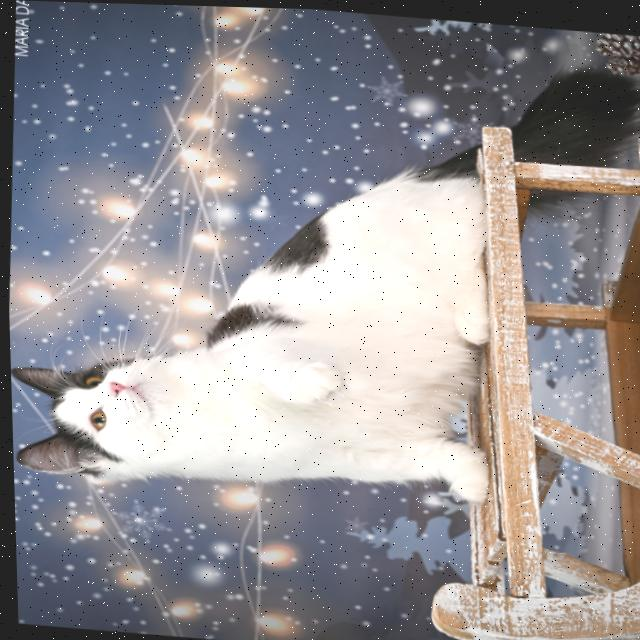Munchkin: (0, 13, 640, 523)
